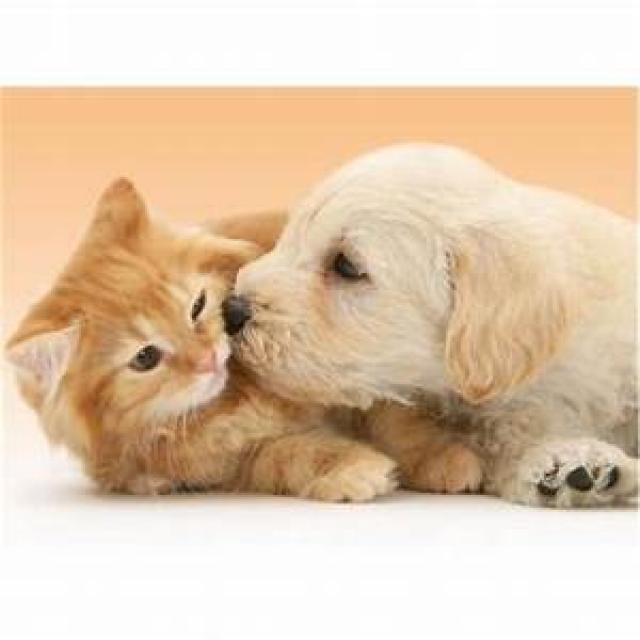animal: (230, 143, 640, 503), (15, 172, 227, 496)
